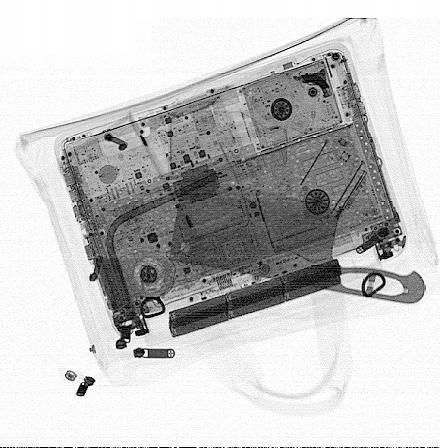Knife: (168, 172, 428, 305)
